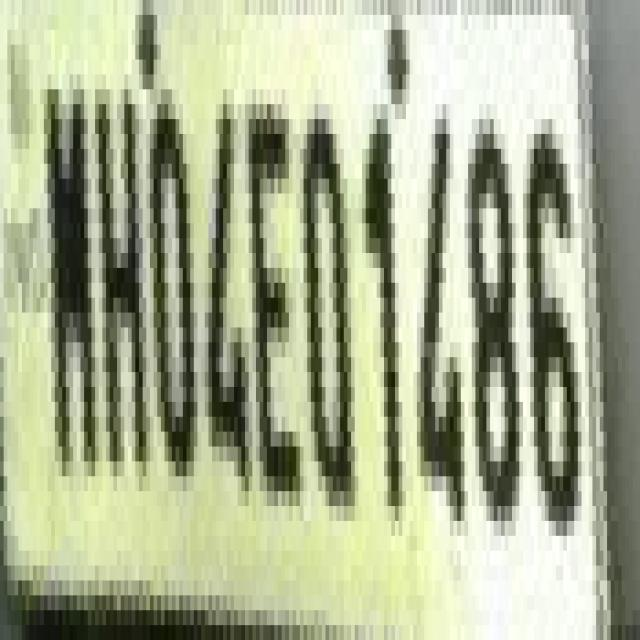license_plate: (0, 14, 614, 610)
